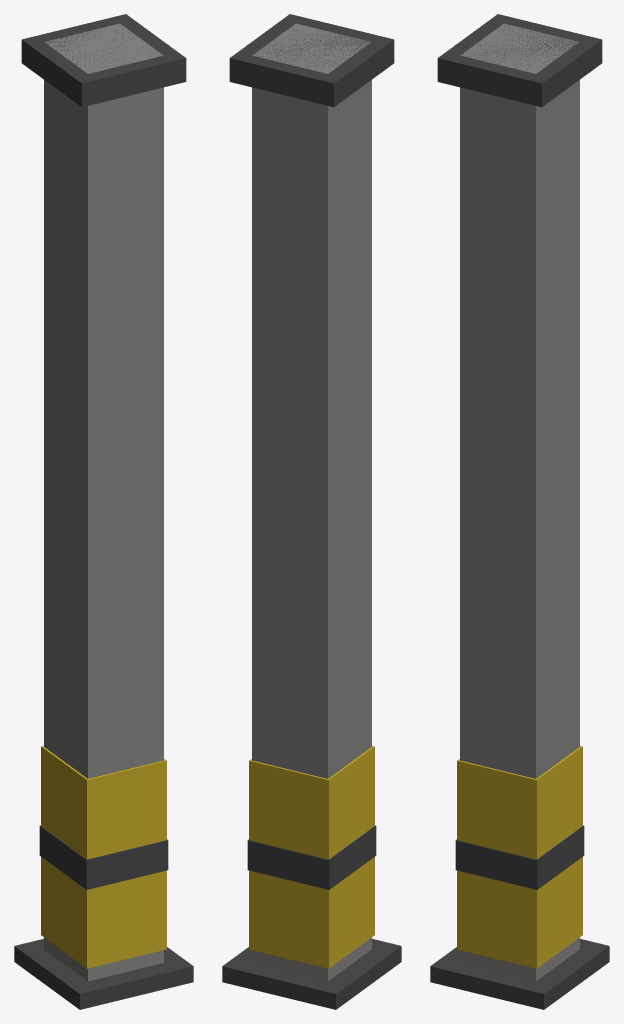
Rendered from Warehouse_Pillar.glb.
3 renders of one model, left to right at view 1: azimuth 30°, elevation 25°; view 2: azimuth 150°, elevation 25°; view 3: azimuth 330°, elevation 25°, orthographic.
Parts seen in each view (by area): view 1: Warehouse_Pillar; view 2: Warehouse_Pillar; view 3: Warehouse_Pillar.
Part boxes in pixels (x1,y1,x2,y2): Warehouse_Pillar: (14,14,193,1009); Warehouse_Pillar: (222,14,401,1009); Warehouse_Pillar: (430,14,609,1009).
Size of what is drawn, in the model's own units: 1.2 by 9.3 by 1.2.
